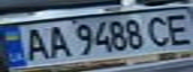4: (90, 19, 112, 54)
8: (124, 16, 148, 51), (109, 18, 130, 53)
9: (69, 20, 97, 56)
A: (18, 25, 51, 62), (42, 24, 72, 60)
C: (142, 12, 175, 48)
E: (160, 10, 193, 46)
